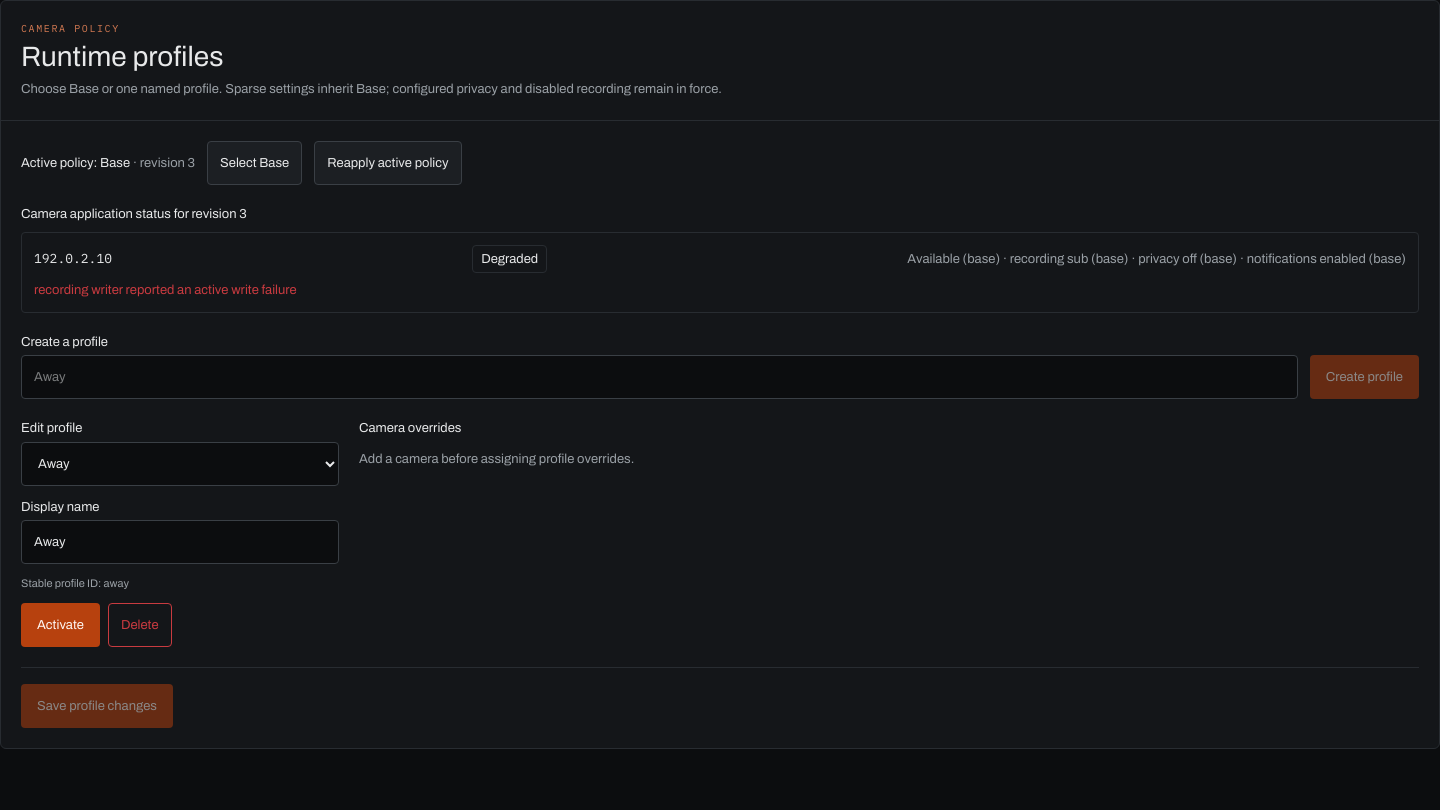
it: RuntimeProfilesSection › reapplies active null after degraded without selecting another policy
The width and height of the screenshot is (1440, 810).
Click the button "Reapply active policy" at [388, 163], box [314, 141, 462, 185]
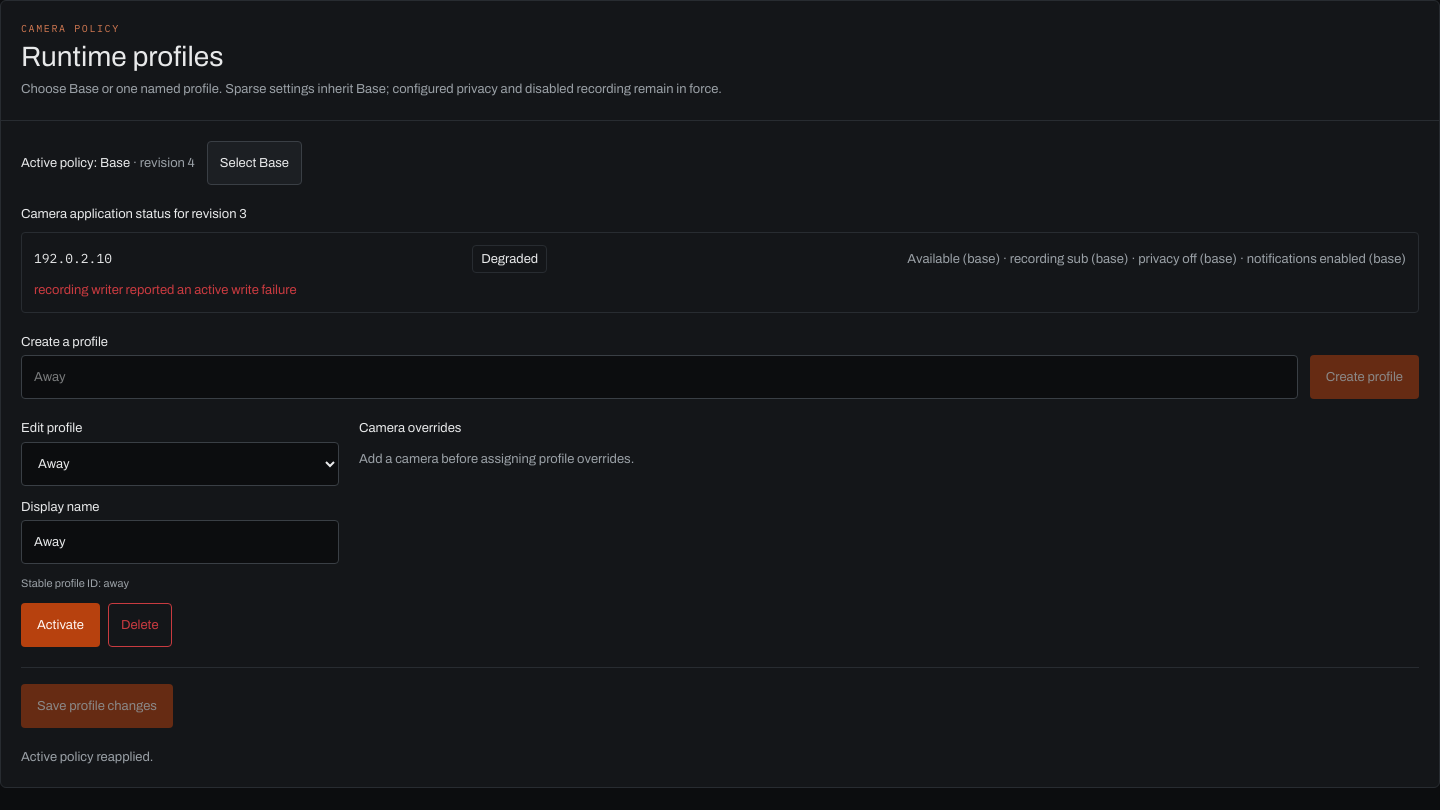
Check: the message reads "Active policy reapplied.", box [21, 750, 154, 764]
